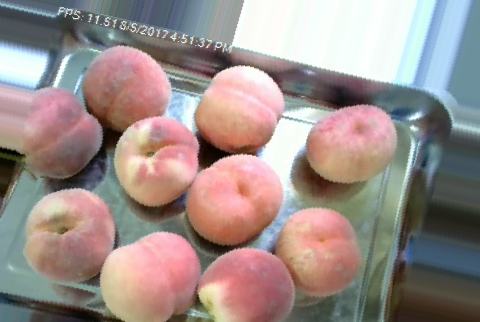Peach: (100, 231, 199, 321), (23, 188, 115, 284), (188, 150, 280, 244), (112, 112, 200, 208), (19, 85, 102, 180), (196, 64, 283, 153), (194, 245, 294, 322), (277, 206, 361, 297), (304, 103, 397, 184), (83, 46, 169, 129)
